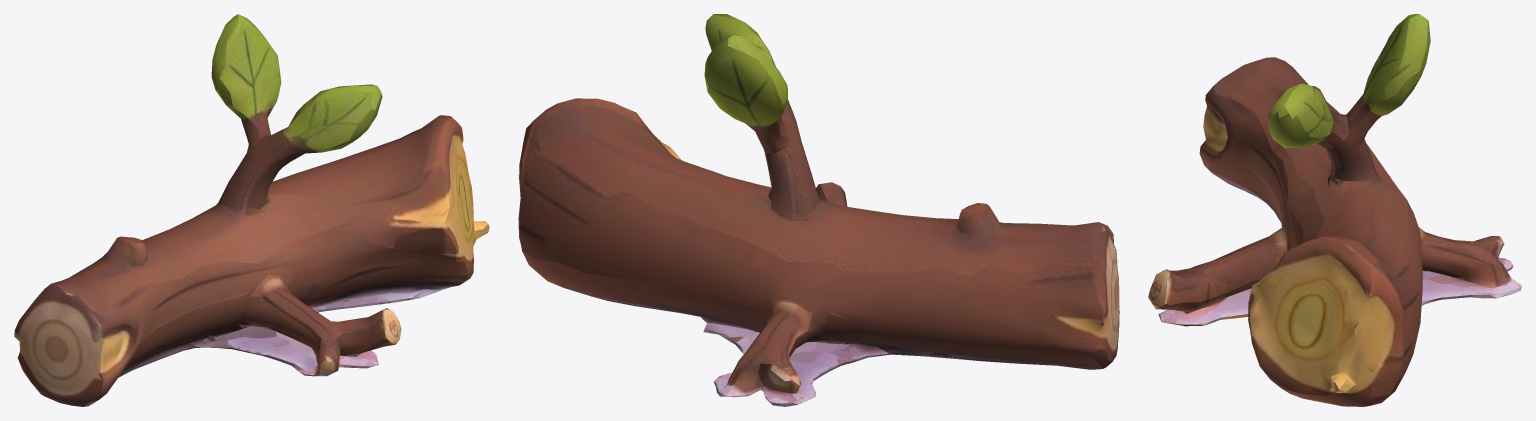
Rendered from branch.glb.
The picture shows the model from 3 angles, left to right: view 1: azimuth 30°, elevation 25°; view 2: azimuth 150°, elevation 25°; view 3: azimuth 270°, elevation 25°; orthographic projection. The views are drawn at different scales.
Visible parts, largest first — view 1: branch_s15; view 2: branch_s15; view 3: branch_s15.
Part boxes in pixels (x1,y1,x2,y2): branch_s15: (14, 14, 489, 406); branch_s15: (518, 14, 1119, 406); branch_s15: (1148, 14, 1521, 406).
Bounding box in the file's own units: 1 × 0.5314 × 0.6066.
Materials: 1 (1 with a texture image).
